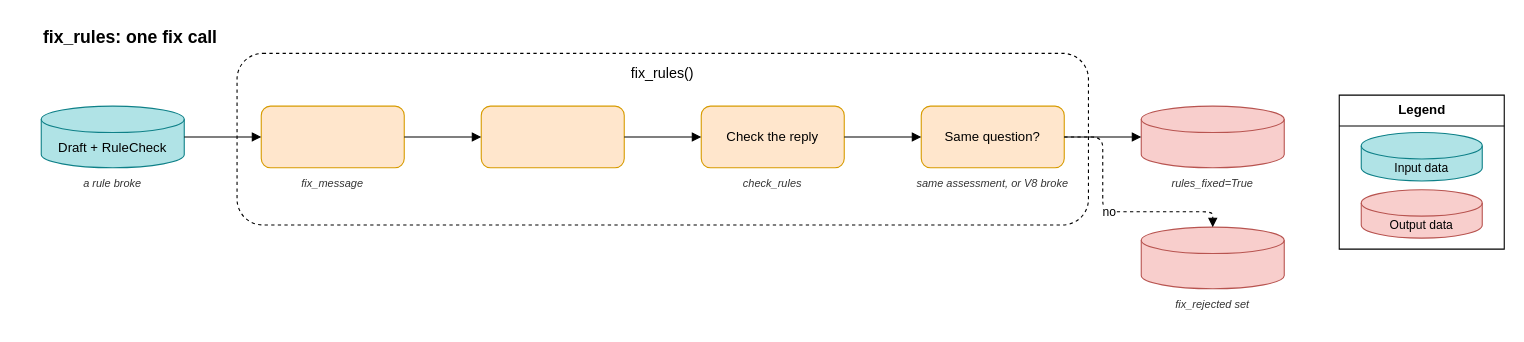
This 1524x342 diagram has some shape labels left out. Each missing label, with the centre of its shape:
"Ask the model" goes at [552,136].
"First draft" goes at [1212,257].
"Fixed draft" goes at [1212,136].
"Write the fix request" goes at [332,136].
